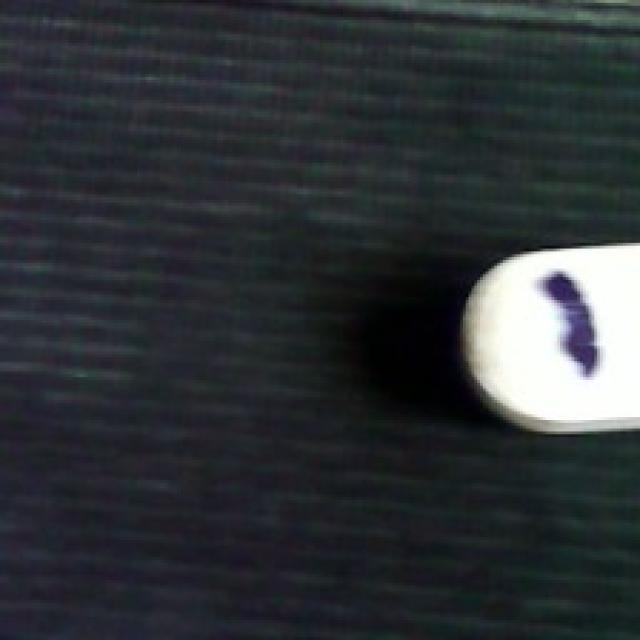defected: (452, 240, 637, 440)
